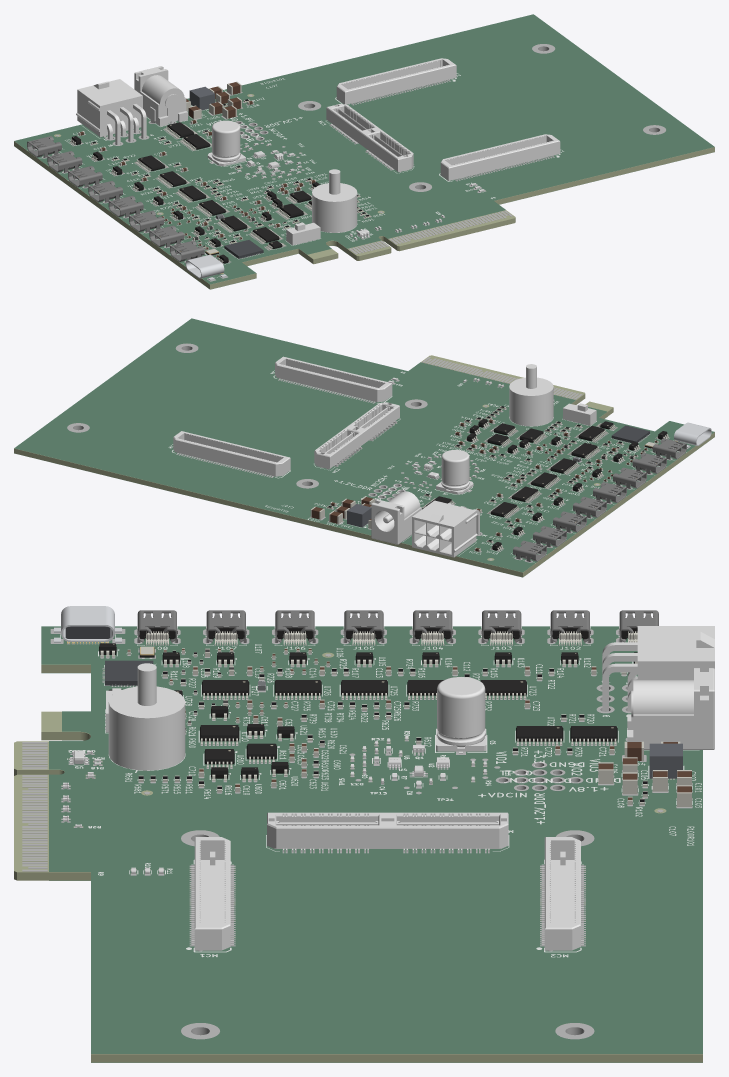
File: brk8310-v1.glb
3 views of the same model, one above another, from view 1: azimuth 30°, elevation 25°; view 2: azimuth 150°, elevation 25°; view 3: azimuth 270°, elevation 25° (orthographic). The views are drawn at different scales.
Parts seen in each view (by area): view 1: =>[0:1:1:264], =>[0:1:1:266], =>[0:1:1:262], =>[0:1:1:9] (×8), =>[0:1:1:259], =>[0:1:1:155], =>[0:1:1:23], =>[0:1:1:263], =>[0:1:1:47], =>[0:1:1:122], =>[0:1:1:241], =>[0:1:1:25] (+4 smaller); view 2: =>[0:1:1:264], =>[0:1:1:266], =>[0:1:1:262], =>[0:1:1:9] (×8), =>[0:1:1:259], =>[0:1:1:155], =>[0:1:1:23], =>[0:1:1:263], =>[0:1:1:47], =>[0:1:1:122], =>[0:1:1:241], =>[0:1:1:25] (+4 smaller); view 3: =>[0:1:1:264], =>[0:1:1:266], =>[0:1:1:262], =>[0:1:1:9] (×8), =>[0:1:1:47], =>[0:1:1:263], =>[0:1:1:122], =>[0:1:1:241], =>[0:1:1:259], =>[0:1:1:21] (×6), =>[0:1:1:155], =>[0:1:1:23] (+6 smaller).
Part boxes in pixels (left/top/right/bottom): =>[0:1:1:264]: left=14, top=14, right=714, bottom=284; =>[0:1:1:266]: left=14, top=15, right=714, bottom=289; =>[0:1:1:262]: left=34, top=44, right=665, bottom=281; =>[0:1:1:9] (×8): left=27, top=136, right=204, bottom=261; =>[0:1:1:259]: left=76, top=79, right=146, bottom=144; =>[0:1:1:155]: left=440, top=134, right=560, bottom=180; =>[0:1:1:23]: left=336, top=58, right=456, bottom=104; =>[0:1:1:263]: left=27, top=73, right=563, bottom=277; =>[0:1:1:47]: left=326, top=104, right=413, bottom=172; =>[0:1:1:122]: left=312, top=169, right=357, bottom=232; =>[0:1:1:241]: left=134, top=66, right=187, bottom=126; =>[0:1:1:25]: left=207, top=120, right=245, bottom=166; =>[0:1:1:264]: left=14, top=318, right=714, bottom=572; =>[0:1:1:266]: left=14, top=319, right=714, bottom=577; =>[0:1:1:262]: left=67, top=343, right=690, bottom=562; =>[0:1:1:9] (×8): left=513, top=438, right=686, bottom=561; =>[0:1:1:259]: left=412, top=500, right=479, bottom=557; =>[0:1:1:155]: left=275, top=356, right=392, bottom=402; =>[0:1:1:23]: left=173, top=431, right=290, bottom=477; =>[0:1:1:263]: left=168, top=370, right=686, bottom=563; =>[0:1:1:47]: left=314, top=402, right=399, bottom=469; =>[0:1:1:122]: left=509, top=364, right=553, bottom=426; =>[0:1:1:241]: left=371, top=491, right=421, bottom=544; =>[0:1:1:25]: left=436, top=449, right=473, bottom=494; =>[0:1:1:264]: left=41, top=626, right=702, bottom=1053; =>[0:1:1:266]: left=14, top=627, right=702, bottom=1062; =>[0:1:1:262]: left=22, top=629, right=692, bottom=1039; =>[0:1:1:9] (×8): left=137, top=610, right=658, bottom=645; =>[0:1:1:47]: left=267, top=812, right=508, bottom=852; =>[0:1:1:263]: left=60, top=626, right=701, bottom=957; =>[0:1:1:122]: left=108, top=663, right=185, bottom=770; =>[0:1:1:241]: left=627, top=668, right=714, bottom=749; =>[0:1:1:259]: left=602, top=626, right=714, bottom=711; =>[0:1:1:21] (×6): left=202, top=680, right=617, bottom=744; =>[0:1:1:155]: left=191, top=837, right=233, bottom=951; =>[0:1:1:23]: left=541, top=837, right=583, bottom=951.
Bounding box in the file's own units: 0.1685 × 0.0196 × 0.1161.
